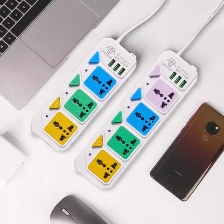phone: (148, 100, 224, 203)
three_eye_plug: (70, 47, 200, 192), (28, 35, 141, 153)
